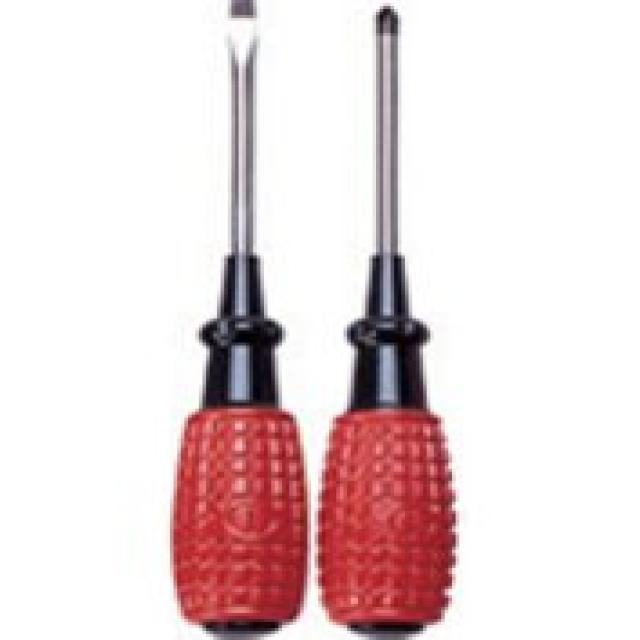screw_driver: (319, 6, 454, 632), (173, 0, 307, 629)
